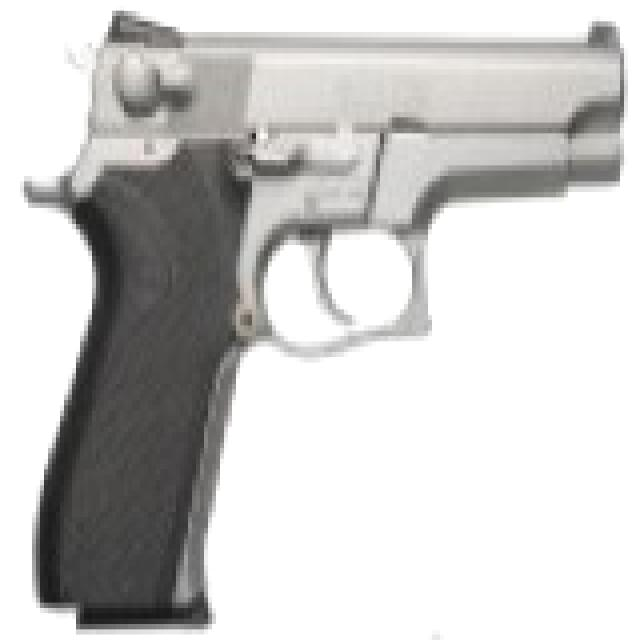pistol: (16, 11, 632, 613)
